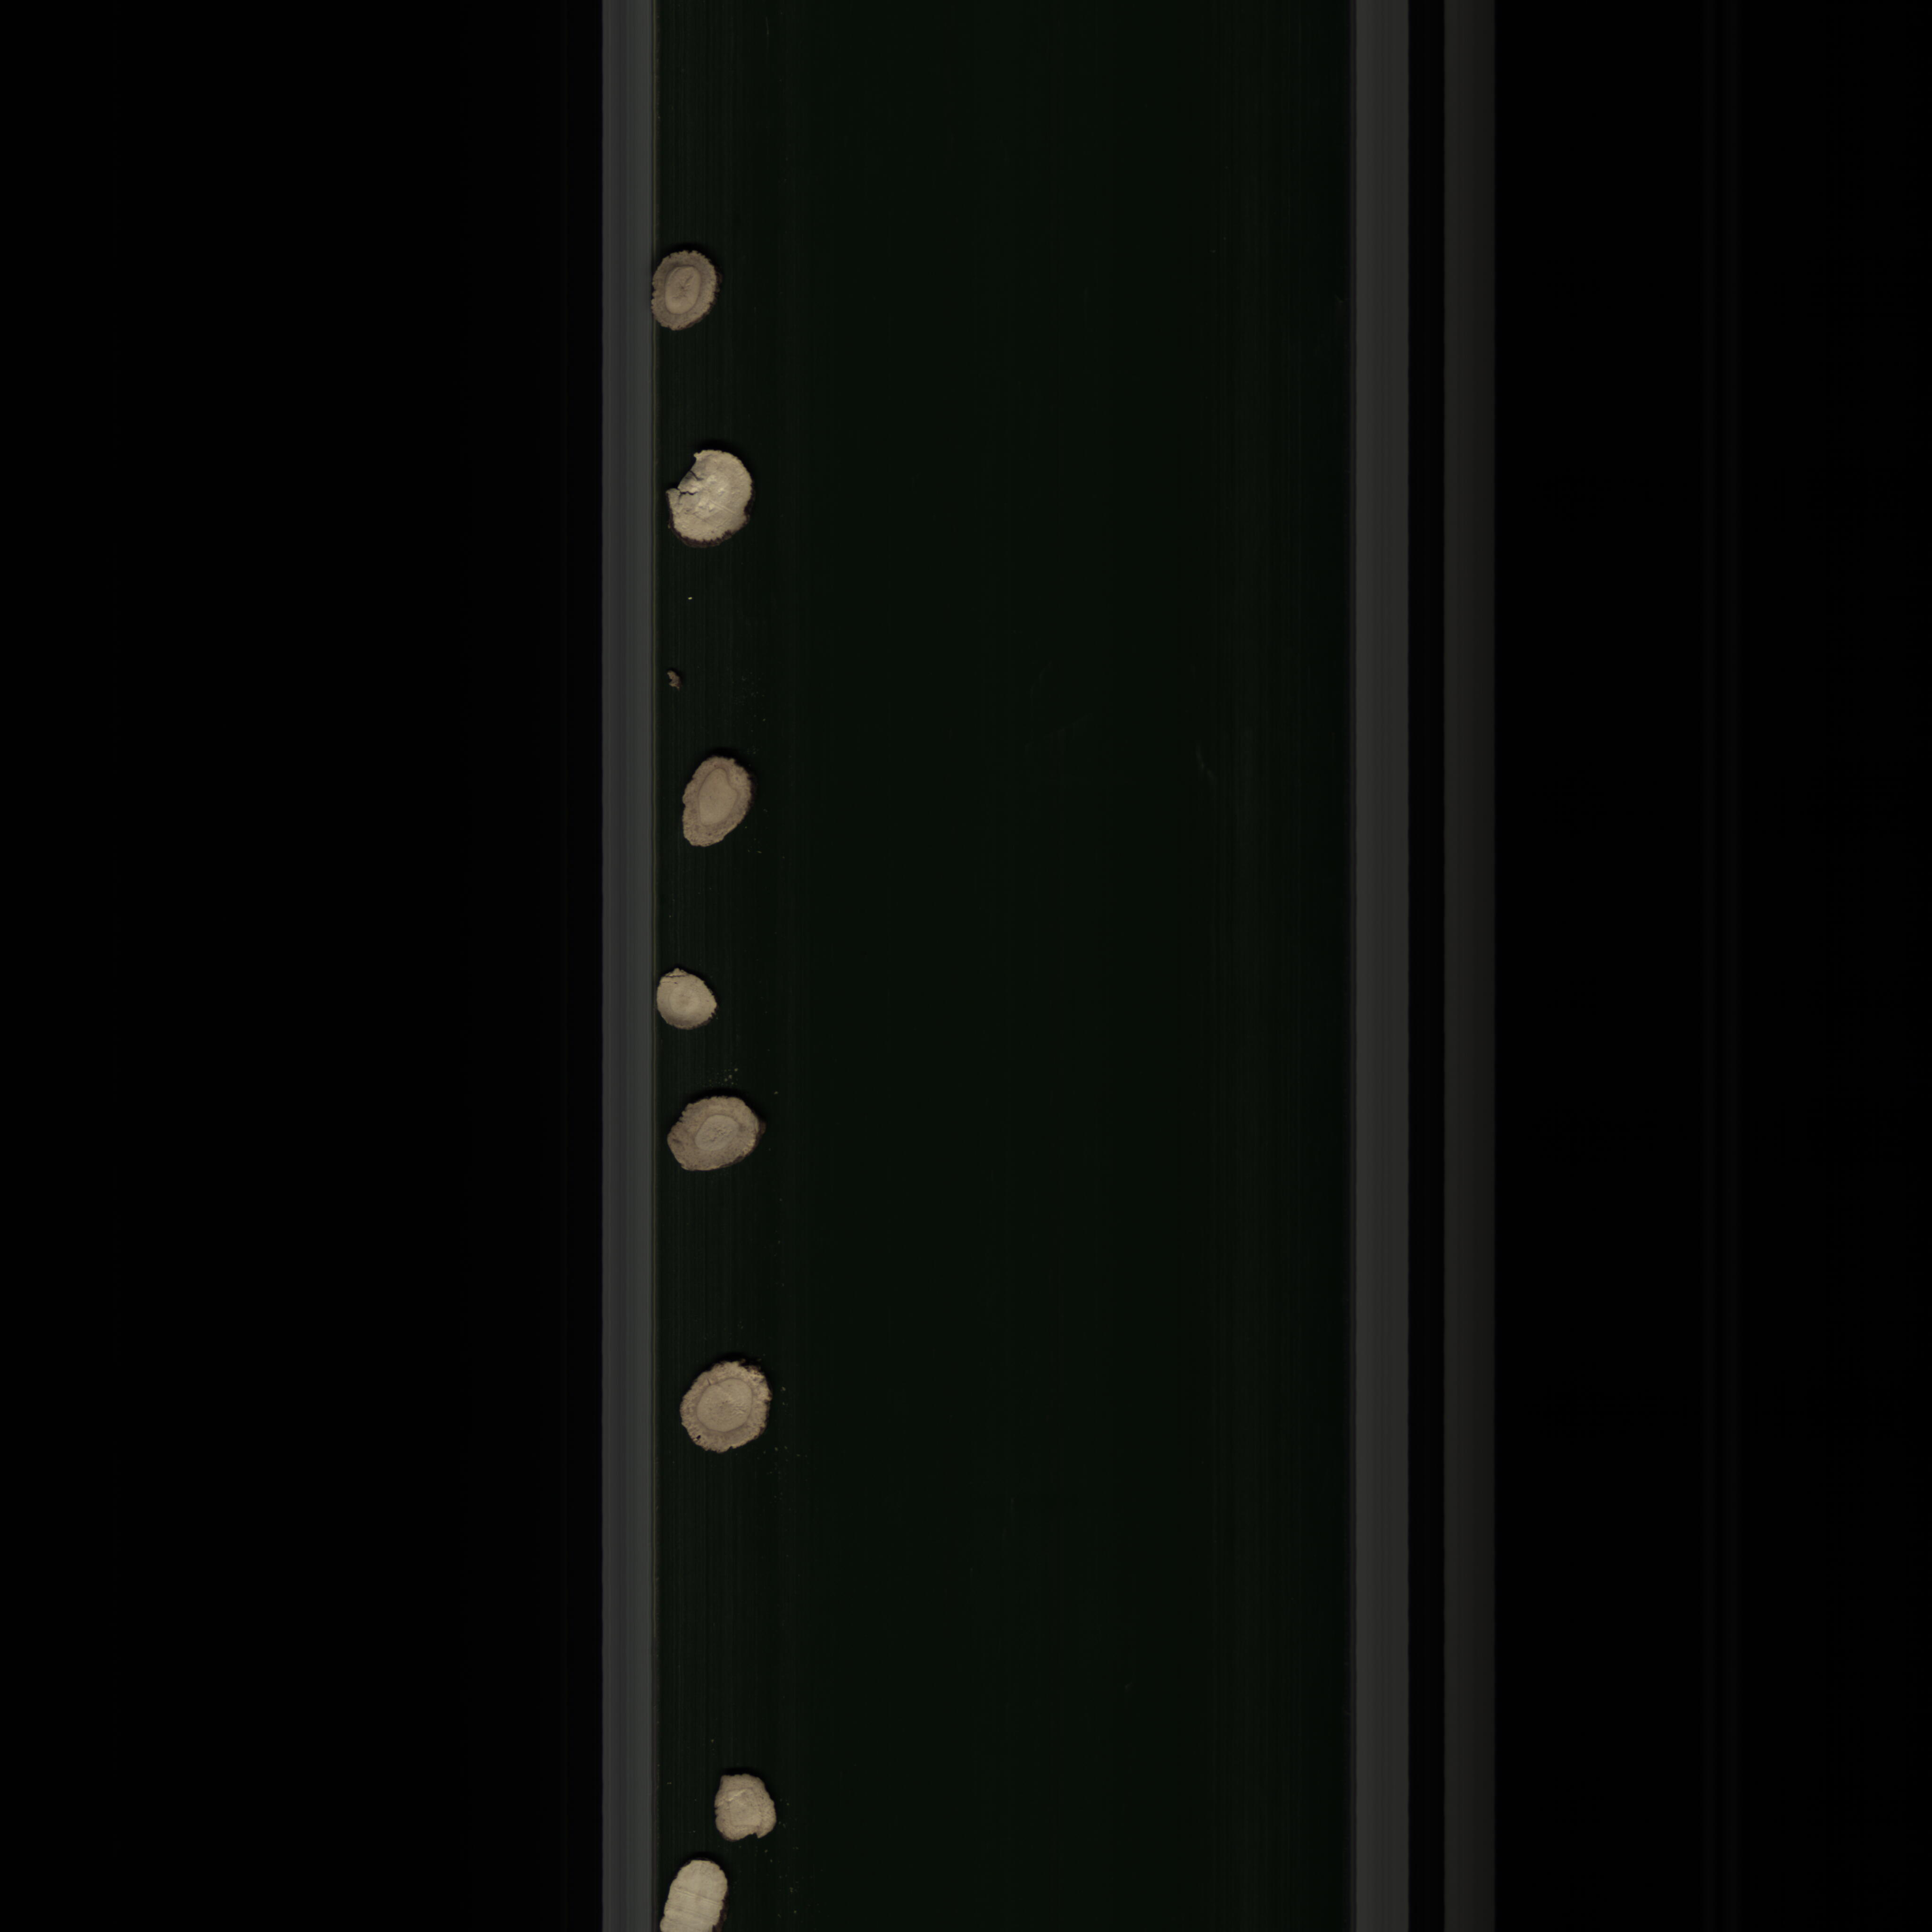debris: (651, 442, 768, 557), (655, 962, 732, 1039)
moldy: (646, 241, 731, 340)
